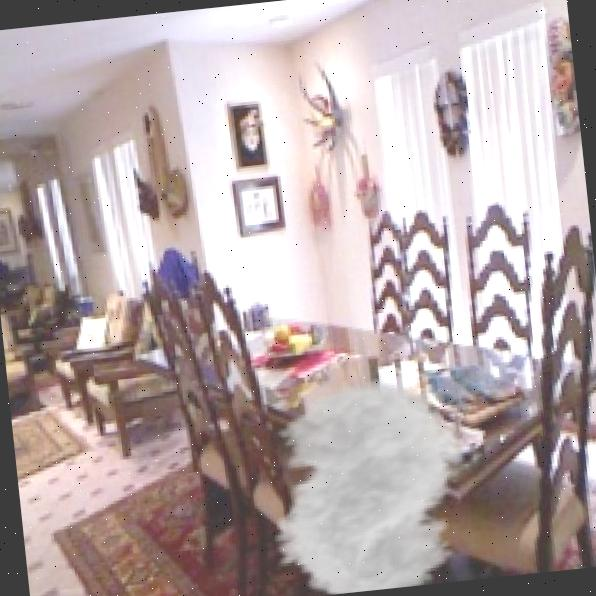smoke: (234, 368, 497, 596)
